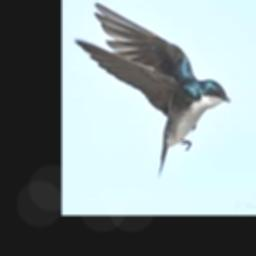Swallow: (74, 1, 229, 177)
